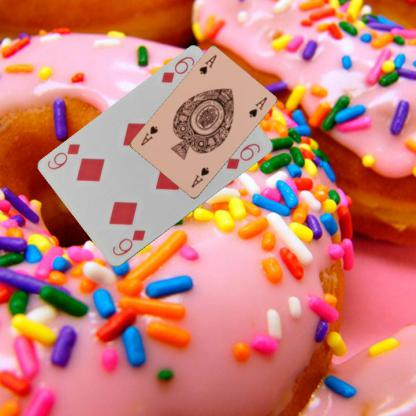6d: (110, 227, 148, 258), (158, 54, 196, 85)
As: (188, 164, 210, 190), (196, 52, 218, 76)
